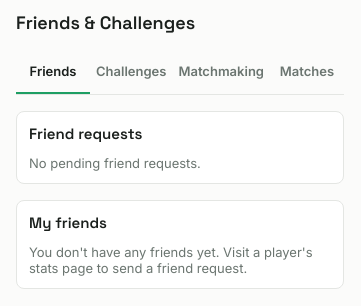
Scenario: FriendsScreen › REQ-1402: selecting the "Challenges" tab shows that panel and hides the others, without unmounting them
The image size is (361, 306).
Expected: the text "No pending friend requests." is shown, [29,155,201,171]
Step 1. Click the tab "Challenges" → click(131, 72), box [90,50,172,94]
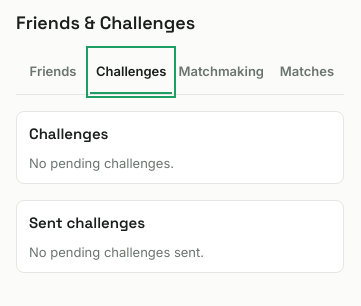
Expected: the text "No pending challenges." is shown, [29,155,174,171]
Expected: the text "No pending friend requests." is gone
